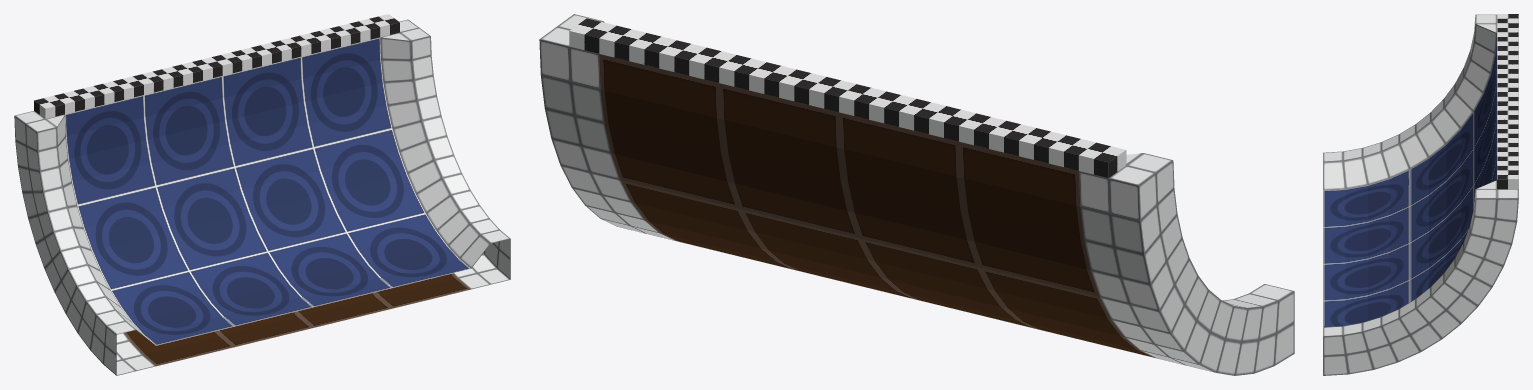
Rendered from NonLinearCurve5.obj.
3 views of the same model, side by side, from view 1: azimuth 30°, elevation 25°; view 2: azimuth 150°, elevation 25°; view 3: azimuth 270°, elevation 25° (orthographic). The views are drawn at different scales.
Parts seen in each view (by area): view 1: NonLinearCurve5; view 2: NonLinearCurve5; view 3: NonLinearCurve5.
Part boxes in pixels (x1,y1,x2,y2): NonLinearCurve5: (14, 14, 510, 375); NonLinearCurve5: (539, 14, 1294, 375); NonLinearCurve5: (1323, 14, 1518, 375).
Bounding box in the file's own units: 10 × 4.75 × 4.5.
